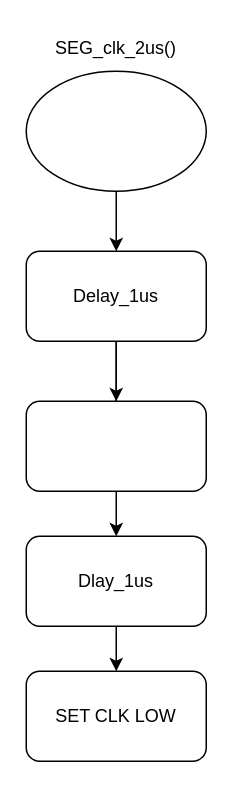
Some shapes in this 233 by 788 pixel diagram are drawn without their labels. Here are the shapes that lost their labels. From the top down, the centre of each, then its label:
the point at 115,130: Start
the point at 115,445: Set CLK HIGH
